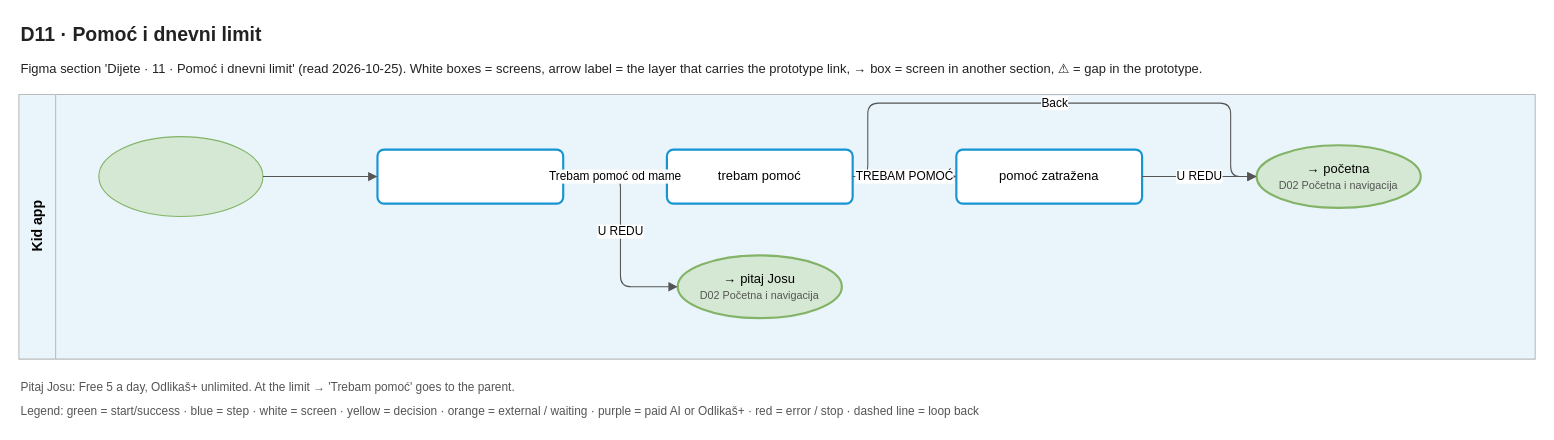
The diagram is 1554 pixels wide and 440 high, and some of its shapes have lost their labels. The centre of each missing label's shape, as x and y in pixels:
6th question of the day on Free (⚠ no link in Figma): point 180,176
pitaj Josu dnevni limit: point 470,176
